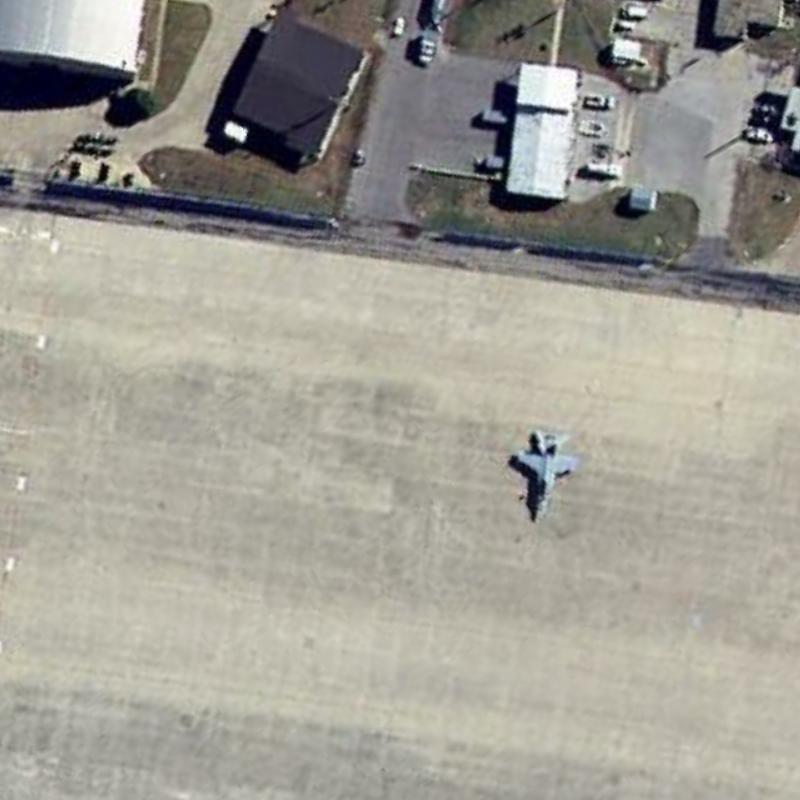A16: (504, 414, 586, 530)
